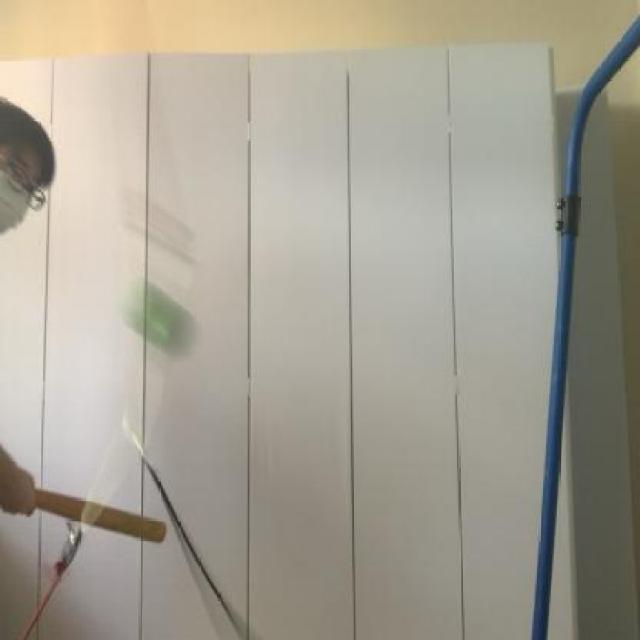baseball: (121, 276, 204, 375)
